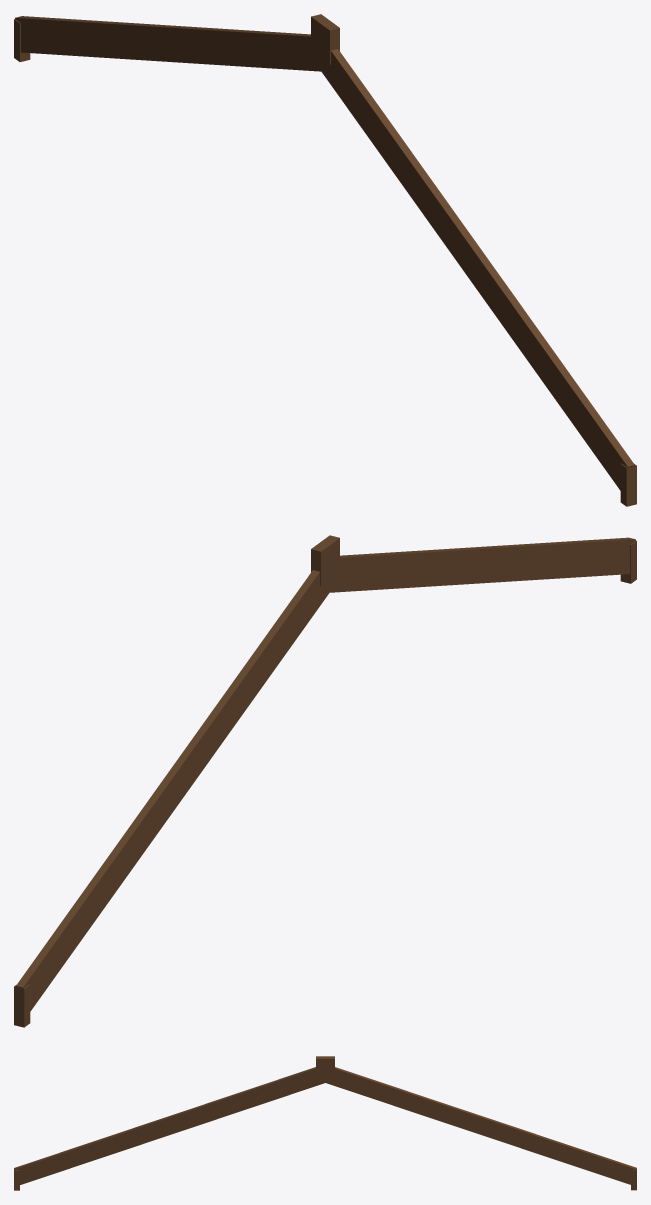
Rendered from SM_Bld_Roof_Verge_01.glb.
The picture shows the model from 3 angles, top to bottom: view 1: azimuth 30°, elevation 25°; view 2: azimuth 150°, elevation 25°; view 3: azimuth 270°, elevation 25°; orthographic projection. The views are drawn at different scales.
Visible parts, largest first — view 1: SM_Bld_Roof_Verge_01; view 2: SM_Bld_Roof_Verge_01; view 3: SM_Bld_Roof_Verge_01.
Part boxes in pixels (<box>): SM_Bld_Roof_Verge_01: <box>14,14,636,506</box>; SM_Bld_Roof_Verge_01: <box>14,535,636,1027</box>; SM_Bld_Roof_Verge_01: <box>14,1056,636,1190</box>.
Bounding box in the file's own units: 0.1 × 2.41 × 10.34.
Materials: 1 (1 with a texture image).
